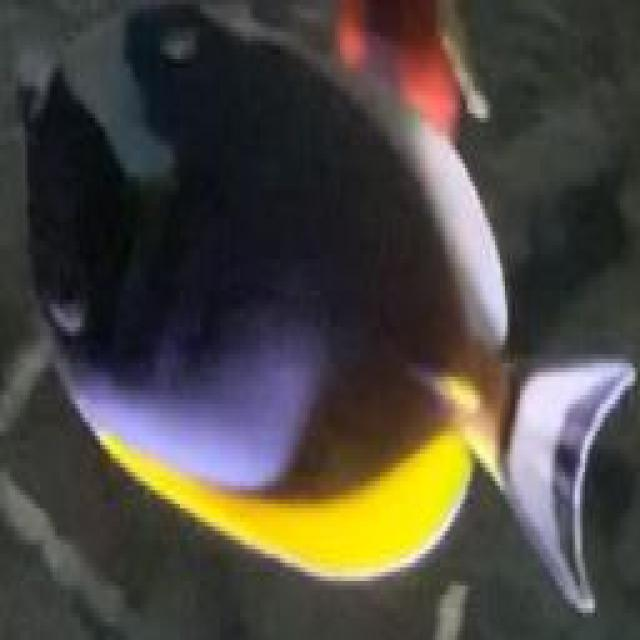fish: (1, 0, 638, 636)
